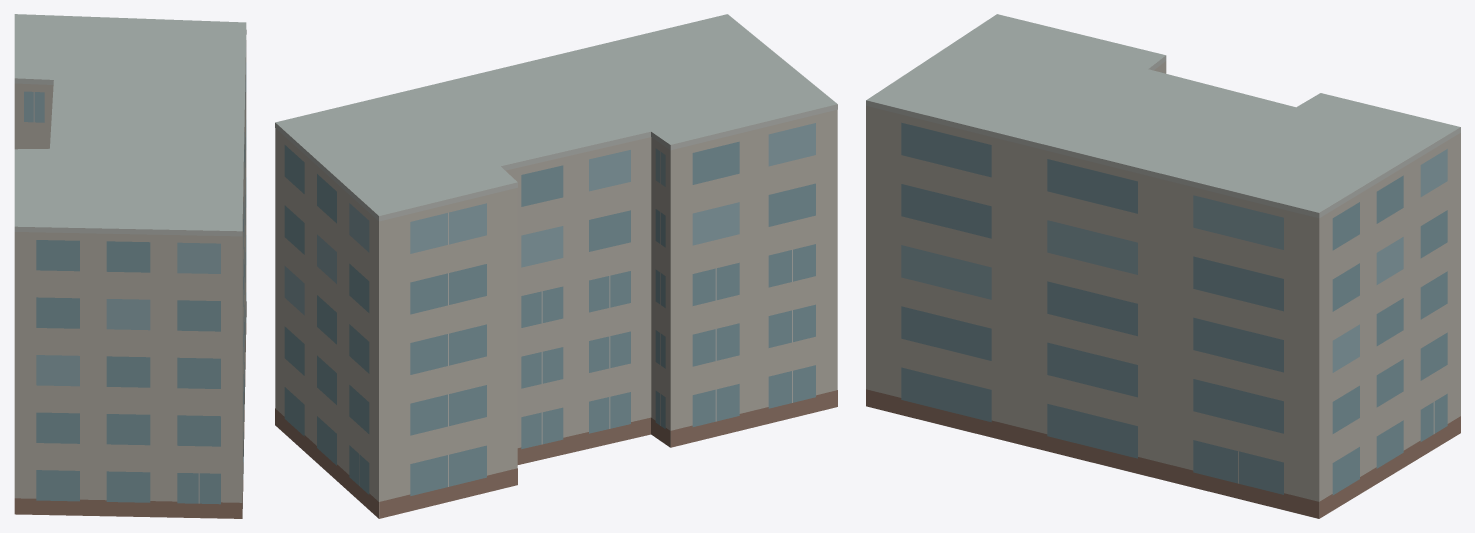
The model's file is survey-upis-32777505.glb.
3 views of the same model, side by side, from view 1: azimuth 30°, elevation 25°; view 2: azimuth 150°, elevation 25°; view 3: azimuth 270°, elevation 25° (orthographic). The views are drawn at different scales.
Parts seen in each view (by area): view 1: survey-upis-32777505.tmp; view 2: survey-upis-32777505.tmp; view 3: survey-upis-32777505.tmp.
Part boxes in pixels (x1=…): survey-upis-32777505.tmp: x1=14, y1=14, x2=246, y2=518; survey-upis-32777505.tmp: x1=275, y1=14, x2=837, y2=518; survey-upis-32777505.tmp: x1=866, y1=14, x2=1460, y2=518.
Size of the model in its own units: 19.04 by 13.65 by 24.06.
